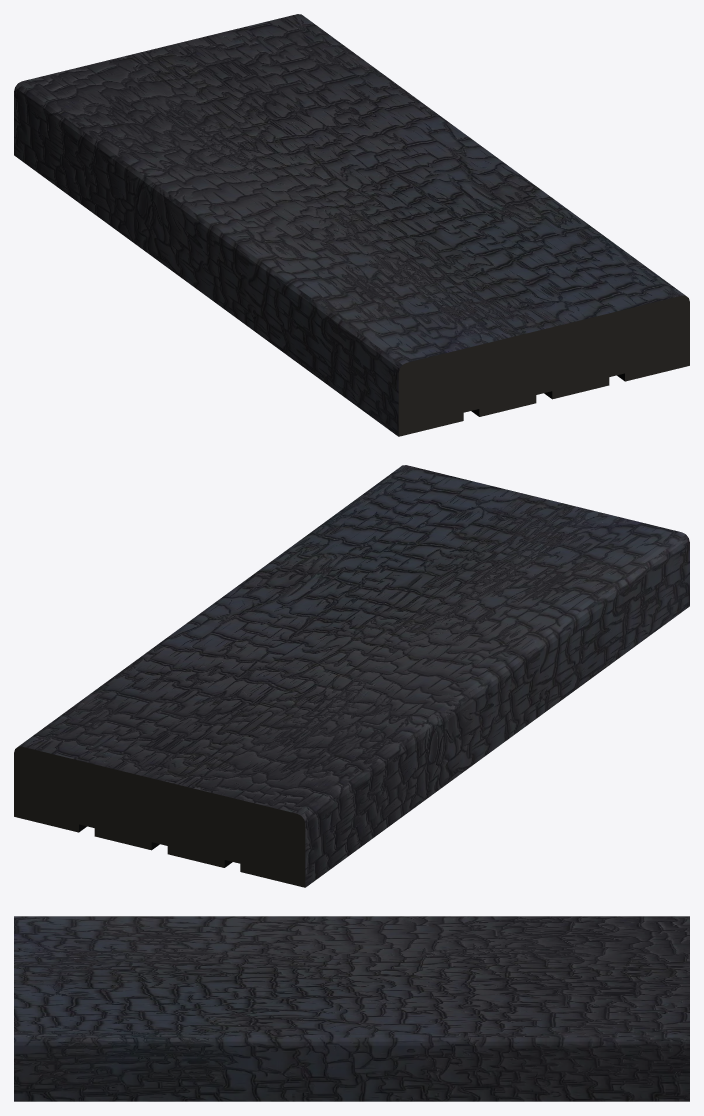
File: larch-terrace-rectangular-carbon.glb
3 views of the same model, one above another, from view 1: azimuth 30°, elevation 25°; view 2: azimuth 150°, elevation 25°; view 3: azimuth 270°, elevation 25° (orthographic). The views are drawn at different scales.
Visible parts, largest first — view 1: Staciakampis; view 2: Staciakampis; view 3: Staciakampis.
Part boxes in pixels (left/top/right/bottom): Staciakampis: left=14, top=14, right=689, bottom=436; Staciakampis: left=14, top=465, right=689, bottom=887; Staciakampis: left=14, top=916, right=689, bottom=1101.
Size of the model in its own units: 0.0733 by 0.0173 by 0.1675.
Materials: 3 (1 with a texture image).
